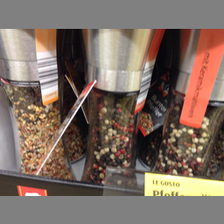spices: (83, 29, 164, 192), (1, 29, 77, 180), (149, 29, 222, 177)
